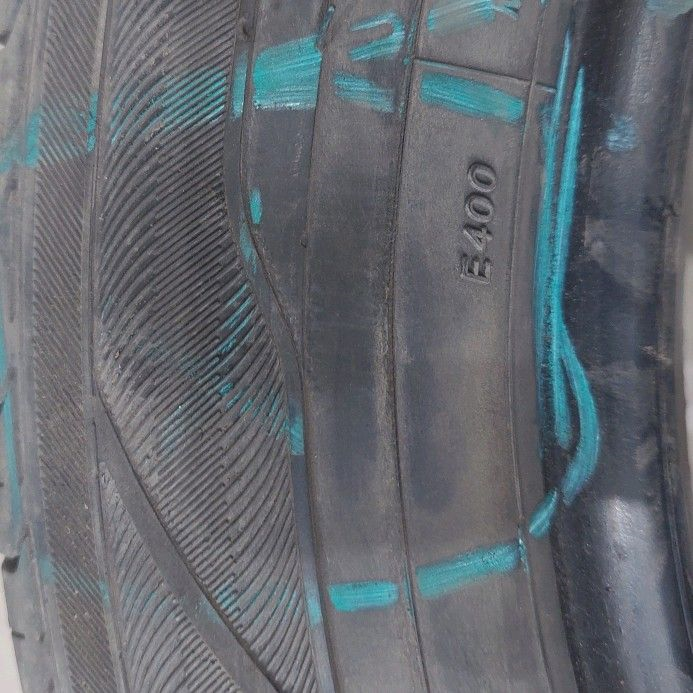CBU: (222, 169, 472, 533)
